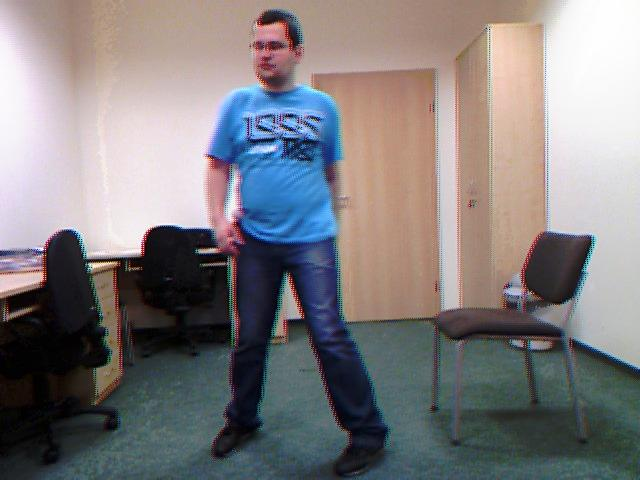walking: (172, 0, 402, 478)
